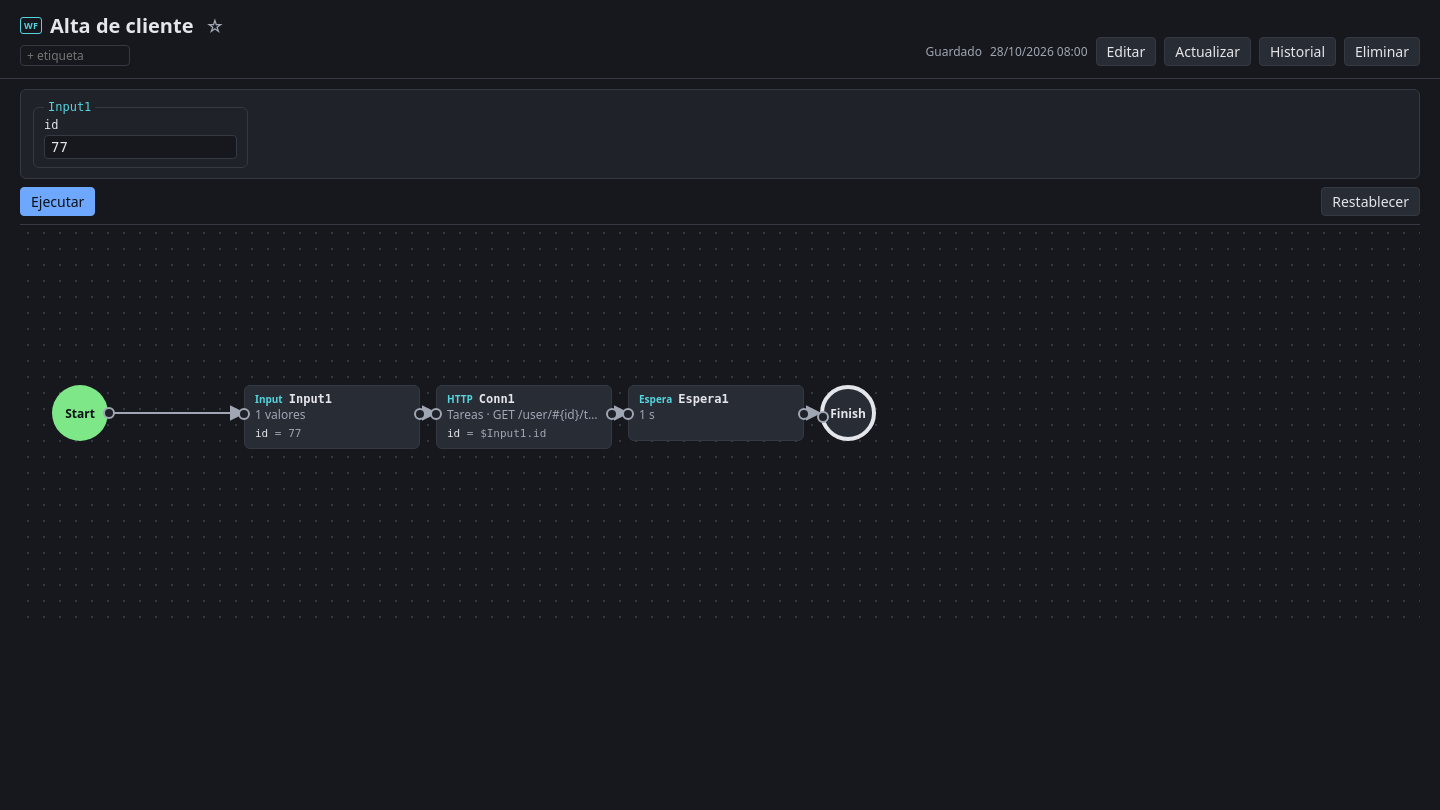
Scenario: notas workflow › W-50 W-51 en consulta, los Input arriba con los valores de la última ejecución, y «Restablecer»
Replace the text in the field labelled "id" with "9" at (140, 147), box [44,135,237,159]
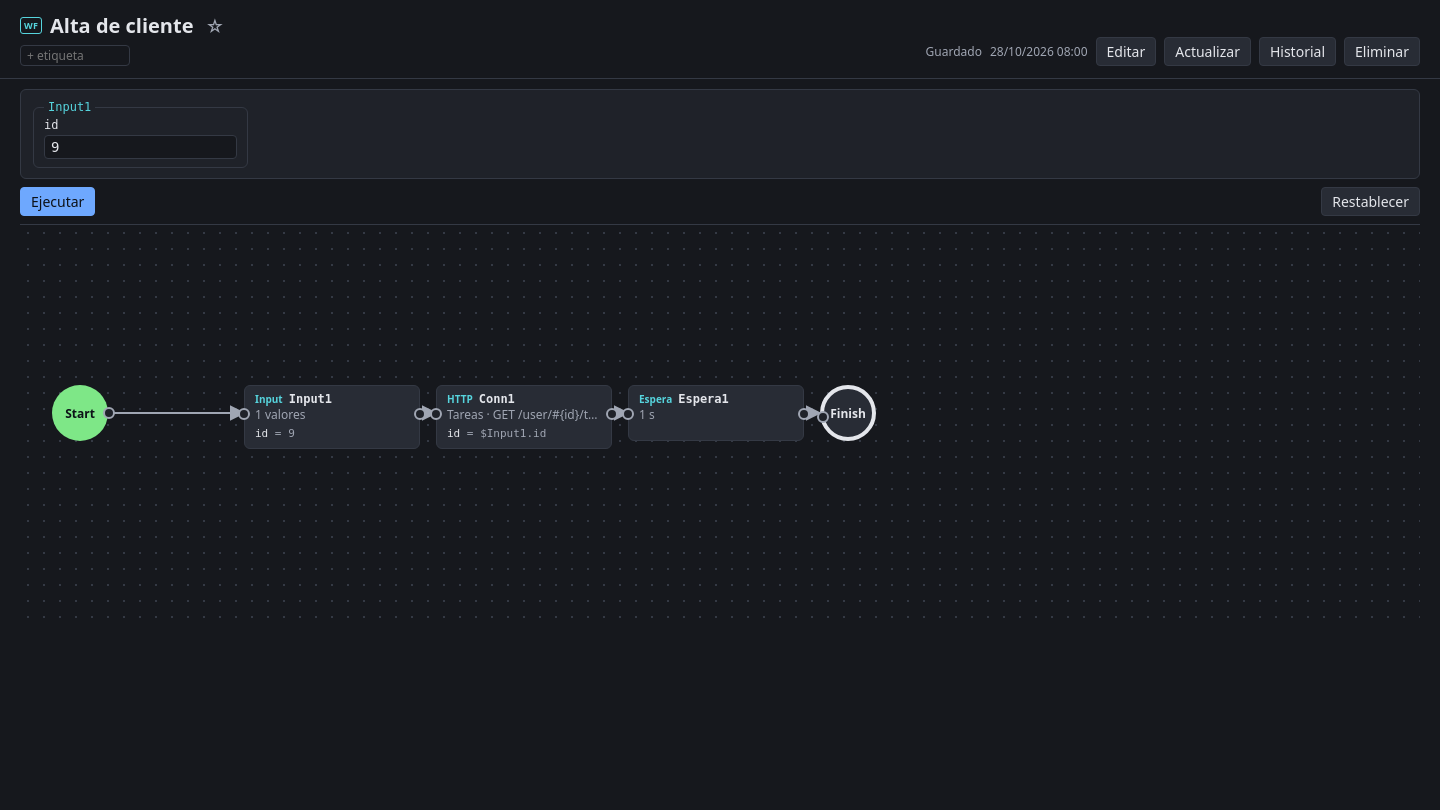
Click the button "Restablecer".
click(1371, 202)  # box [1321,187,1420,216]
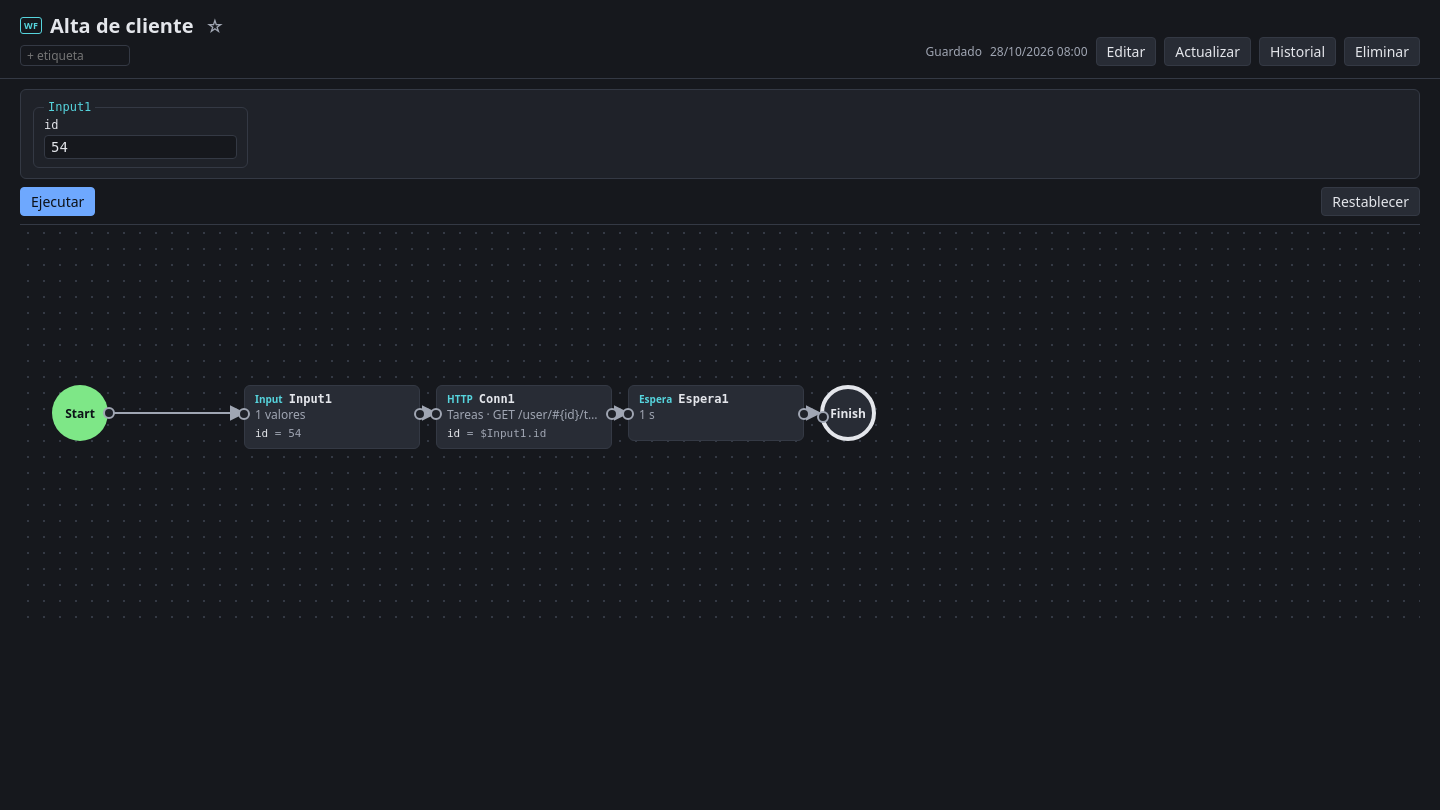
Expected: the field labelled "id" holds "54", [44,135,237,159]
